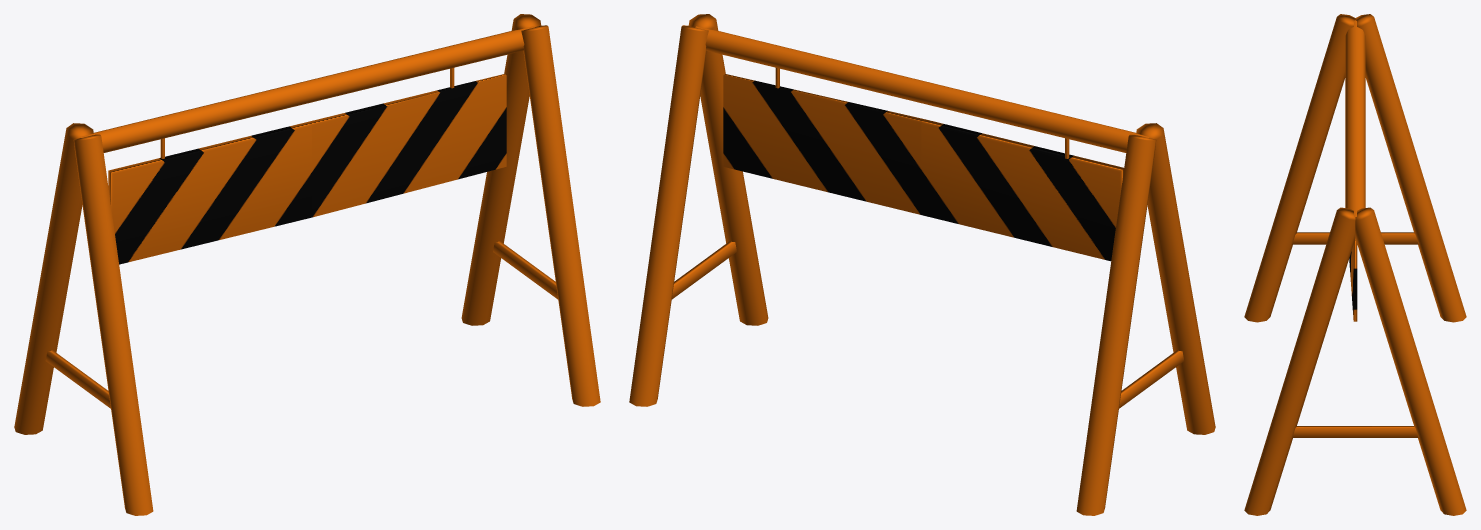
Rendered from Bariicade.fbx.
3 renders of one model, left to right at view 1: azimuth 30°, elevation 25°; view 2: azimuth 150°, elevation 25°; view 3: azimuth 270°, elevation 25°, orthographic. The views are drawn at different scales.
Visible parts, largest first — view 1: OBJ_Boad1; view 2: OBJ_Boad1; view 3: OBJ_Boad1.
Boxes of the visible parts, <box> form: OBJ_Boad1: <box>14,14,600,515</box>; OBJ_Boad1: <box>629,14,1215,515</box>; OBJ_Boad1: <box>1244,14,1466,515</box>.
Size of the model in its own units: 14.8 by 10.13 by 6.8.
Materials: 1 (1 with a texture image).
